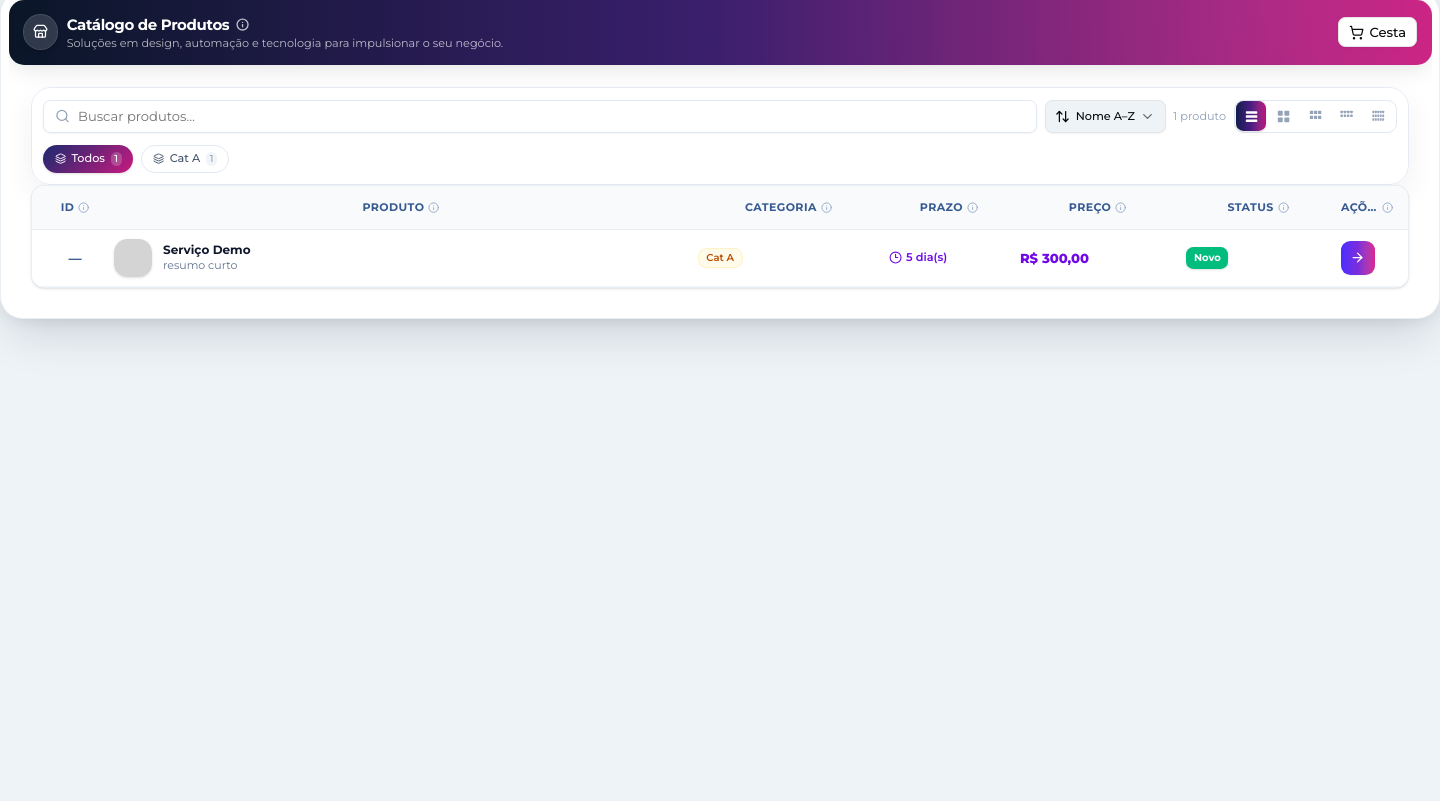
Test: Catálogo do cliente › guarda a distribuição: uma tarefa com todas as unidades gera um lote; tarefas separadas permitem 1 + 1 + 3
The width and height of the screenshot is (1440, 801).
Later steps or results of the test are not shown.
Step 1. Click the text "Serviço Demo" → [207, 250], box [163,242,251,257]
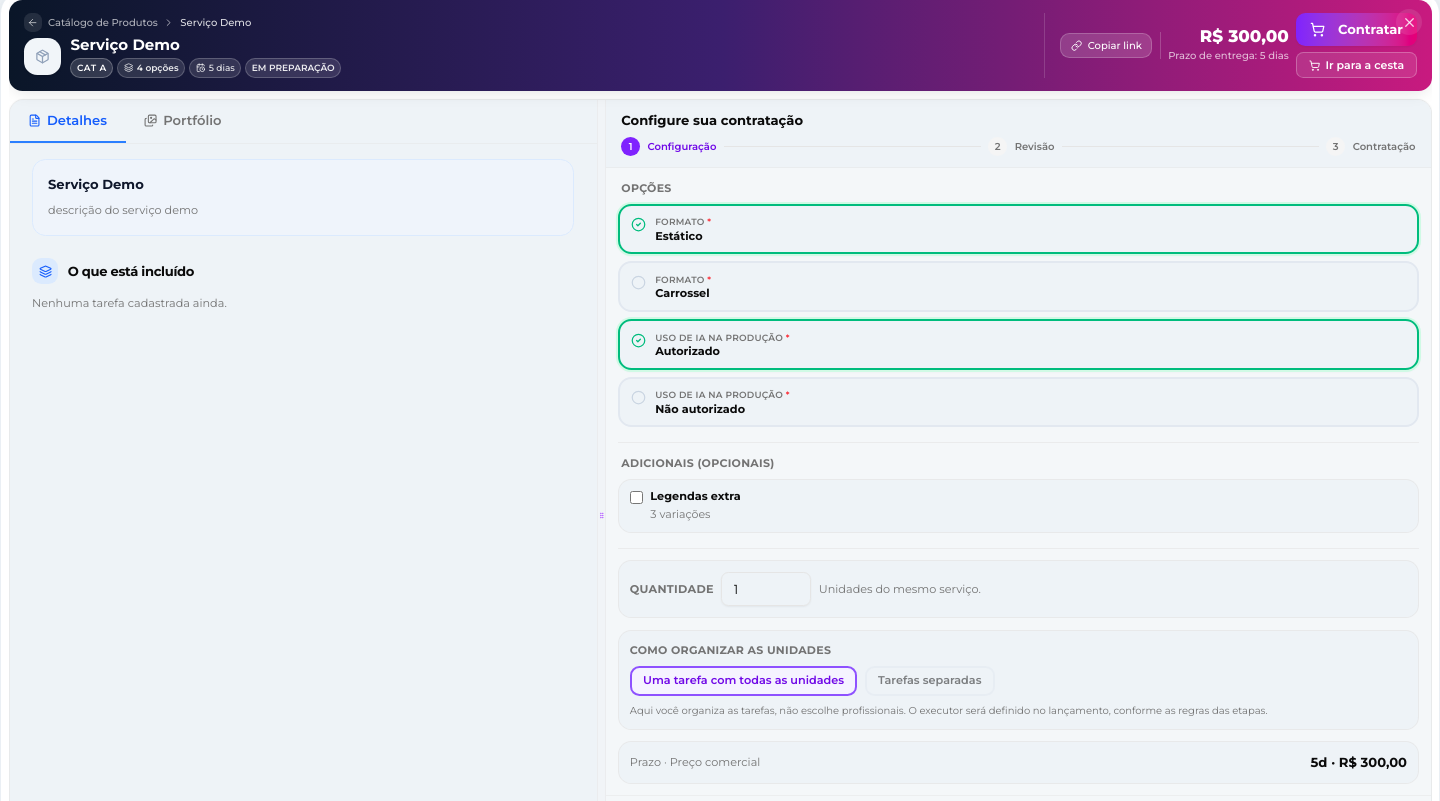
Check: the heading "Serviço Demo" is shown, box [70,35,180,54]
Step 2. Replace the text in the number field named "Quantidade do produto" with "5" → [766, 589], box [721,572,811,606]
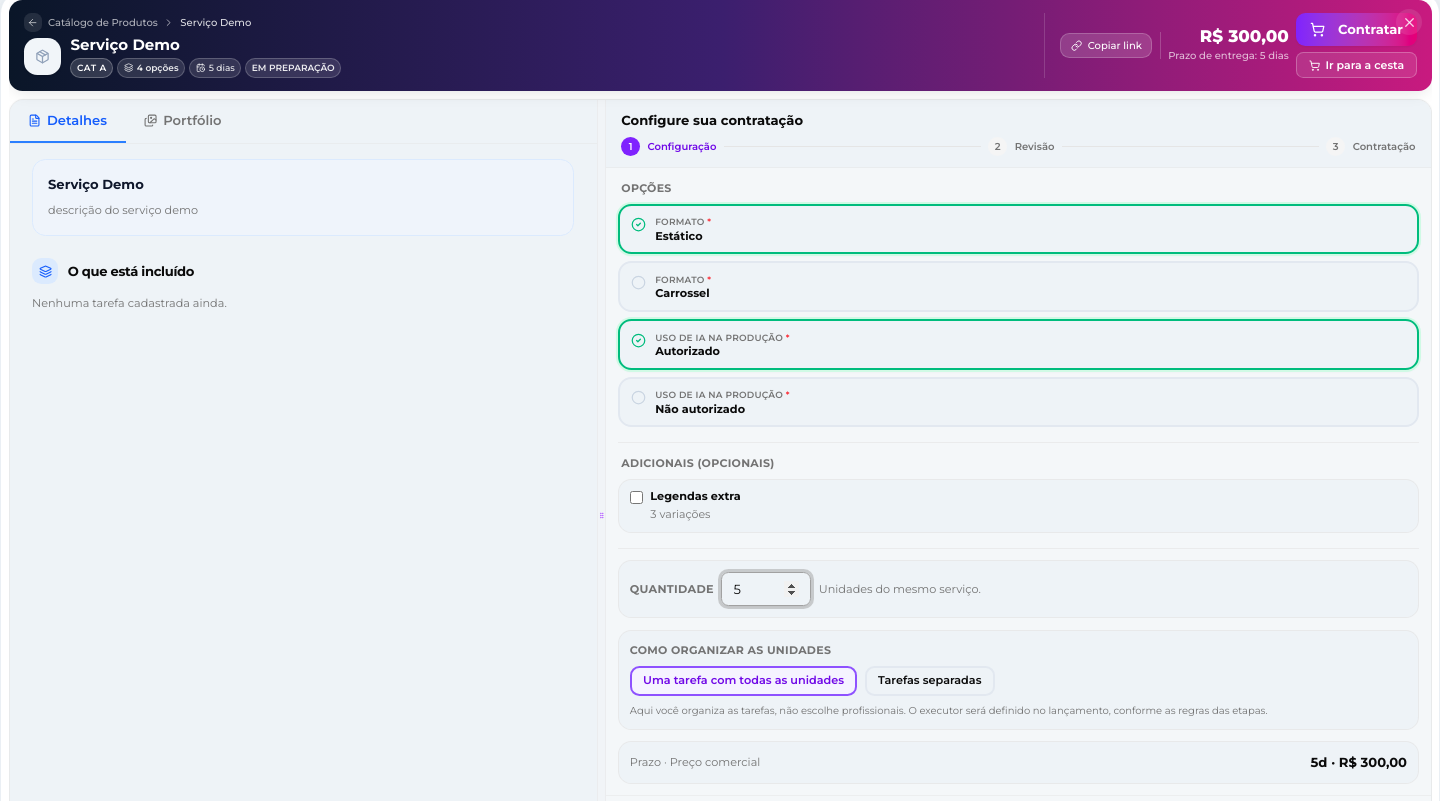
Step 3. Click the button "Tarefas separadas" → [930, 681], box [865,666,995,696]
(page scrolled)
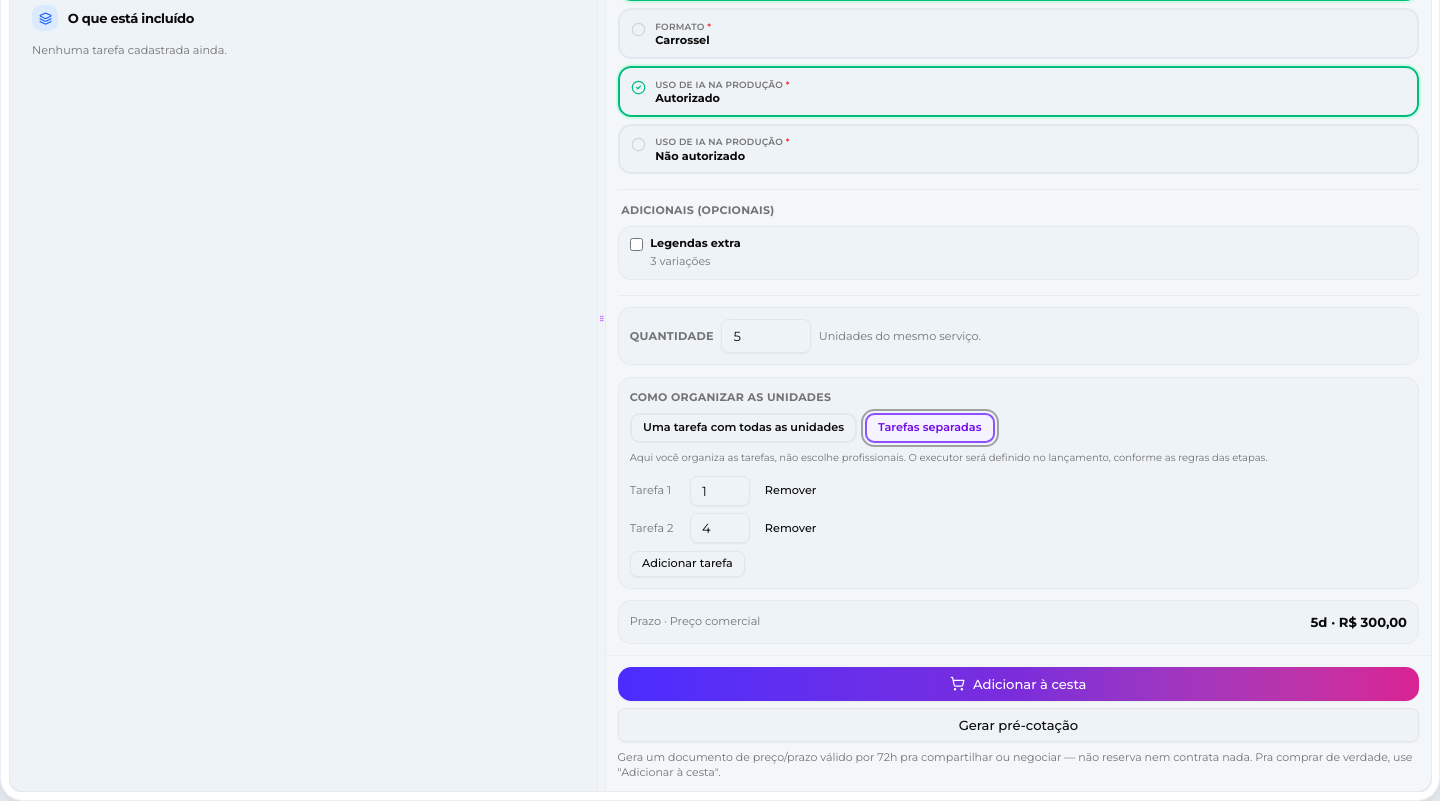
Step 4. Click the button "Adicionar tarefa" → [687, 564], box [630,550,745,577]
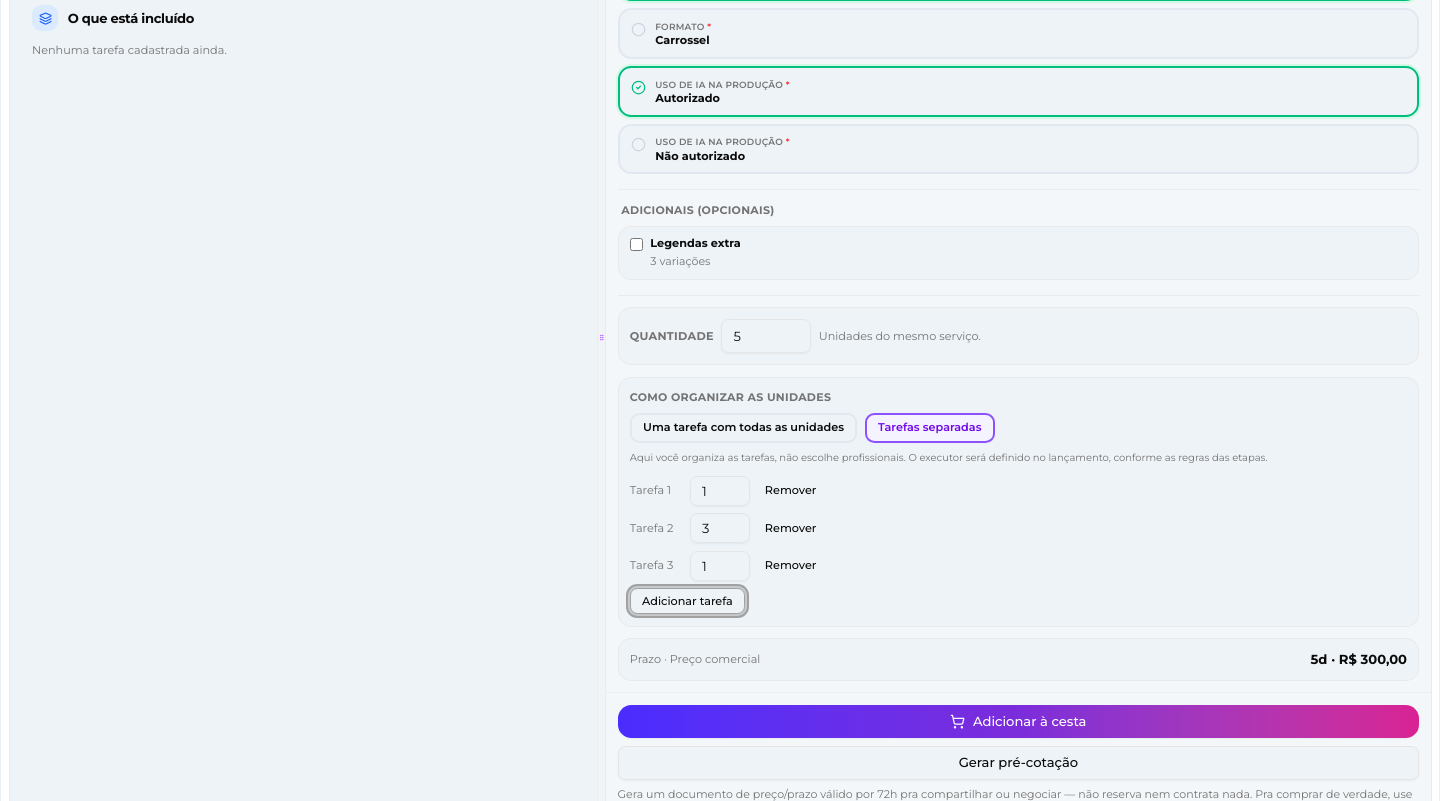
Check: the number of number fields named "Unidades da tarefa" is 3, box [690,476,750,506]; [690,513,750,543]; [690,550,750,580]
